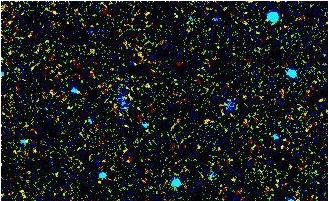star: (83, 165, 113, 195)
